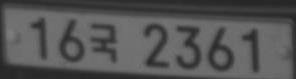1: (28, 18, 53, 58), (242, 28, 264, 72)
2: (143, 24, 169, 67)
3: (176, 25, 202, 69)
6: (207, 27, 234, 70), (57, 19, 84, 61)
국: (89, 23, 118, 62)
